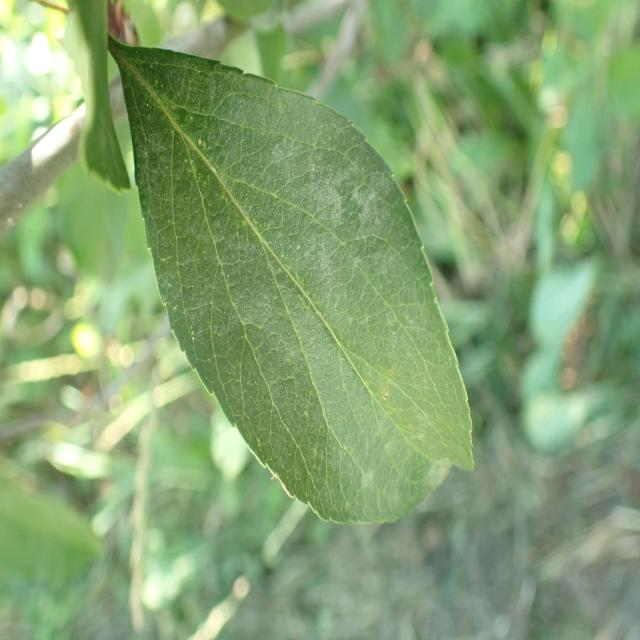Powdery_mildew: (111, 39, 480, 543)
